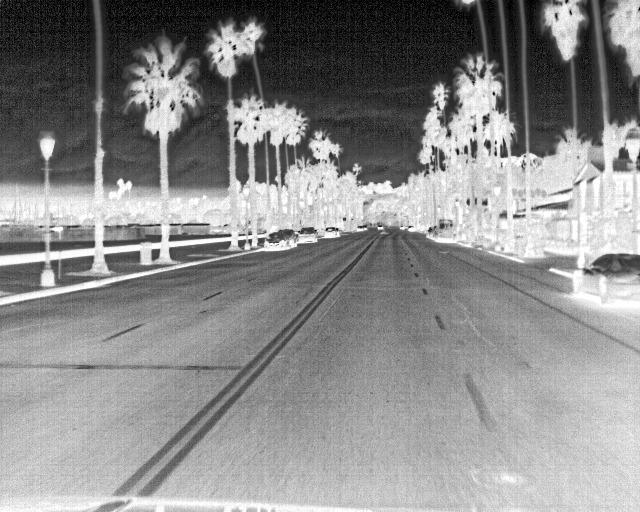car: (570, 250, 638, 306), (433, 218, 458, 243), (261, 234, 288, 251), (274, 228, 298, 246), (297, 226, 319, 244), (321, 226, 339, 240), (424, 227, 433, 238)
